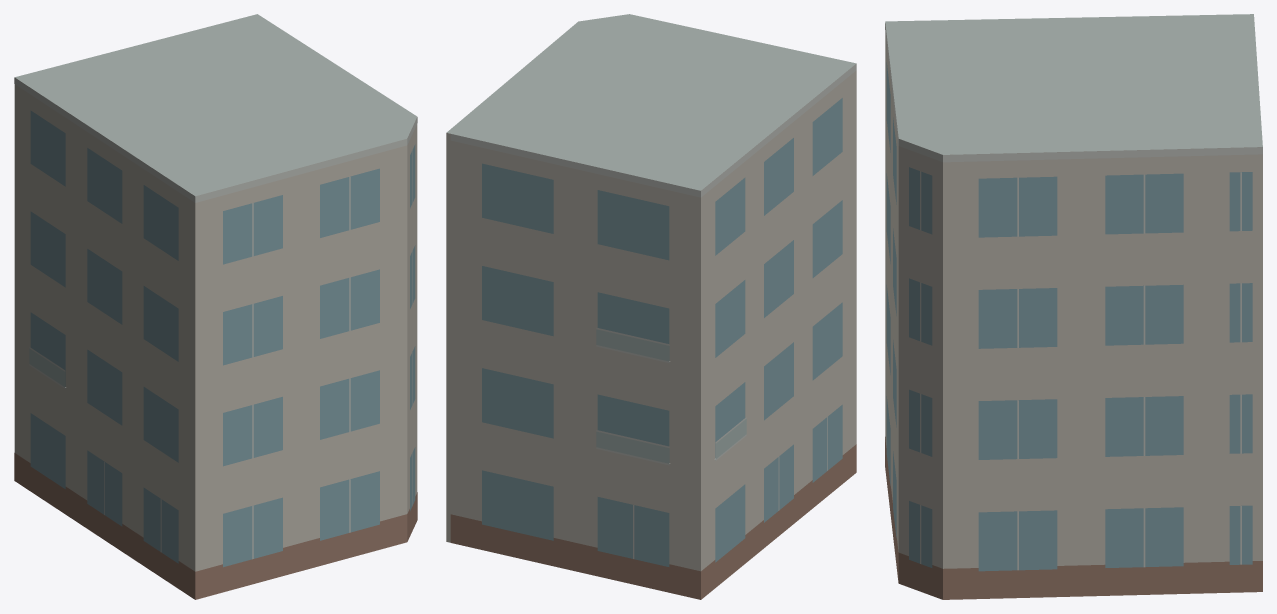
Rendered from survey-upis-32744394.glb.
3 views of the same model, side by side, from view 1: azimuth 30°, elevation 25°; view 2: azimuth 150°, elevation 25°; view 3: azimuth 270°, elevation 25° (orthographic). The views are drawn at different scales.
Parts seen in each view (by area): view 1: survey-upis-32744394.tmp; view 2: survey-upis-32744394.tmp; view 3: survey-upis-32744394.tmp.
Part boxes in pixels (<box>): survey-upis-32744394.tmp: <box>14,14,417,599</box>; survey-upis-32744394.tmp: <box>446,14,856,599</box>; survey-upis-32744394.tmp: <box>885,14,1262,599</box>.
Size of the model in its own units: 10 by 14.7 by 11.32.
